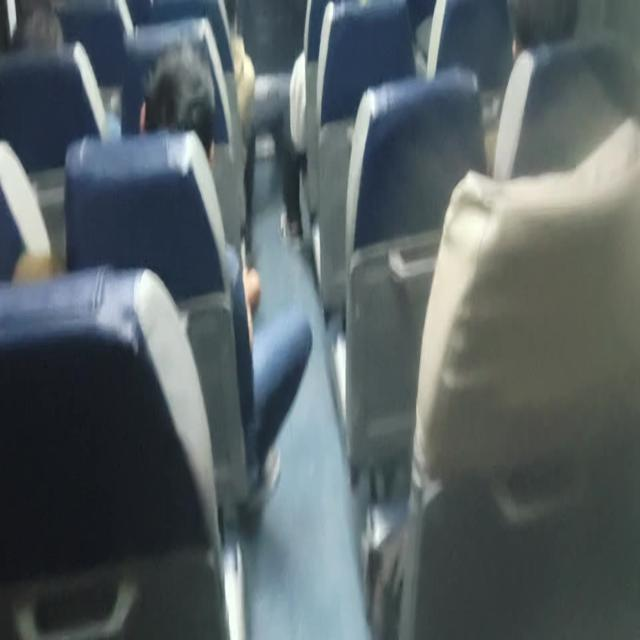person: (144, 47, 237, 171), (551, 65, 615, 171), (508, 0, 575, 75)
